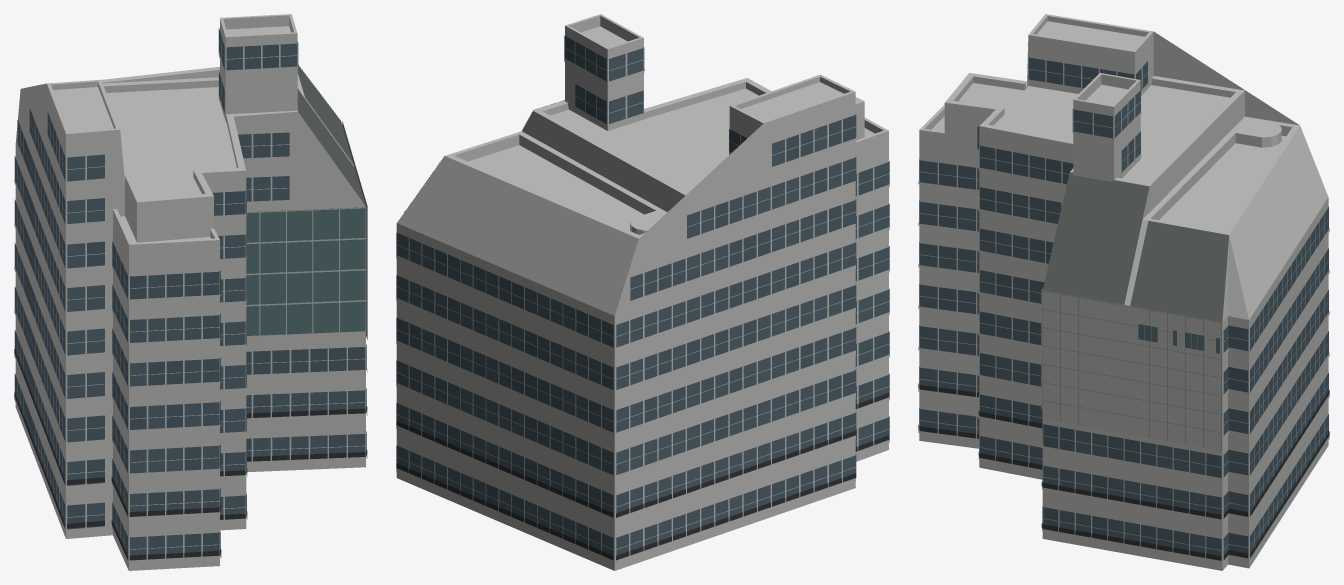
The model's file is takagi.glb.
The picture shows the model from 3 angles, left to right: view 1: azimuth 30°, elevation 25°; view 2: azimuth 150°, elevation 25°; view 3: azimuth 270°, elevation 25°; orthographic projection. The views are drawn at different scales.
Parts seen in each view (by area): view 1: takagi_wall, takagi_glass2, takagi_roof, takagi_glass0, takagi_glass1, takagi_fitted_glass, takagi_spandrel, takagi_frame, takagi_sign_housing, takagi_fitted_crown_rib, takagi_fitted_warm_panel; view 2: takagi_wall, takagi_roof, takagi_glass2, takagi_glass1, takagi_glass0, takagi_spandrel, takagi_frame, takagi_sign_housing; view 3: takagi_wall, takagi_roof, takagi_fitted_warm_panel, takagi_glass0, takagi_glass2, takagi_glass1, takagi_spandrel, takagi_fitted_crown_rib, takagi_frame, takagi_sign_housing, takagi_fitted_glass.
Boxes of the visible parts, x1,y1,x2,y2 form: takagi_wall: [15, 15, 366, 570]; takagi_glass2: [15, 28, 366, 560]; takagi_roof: [47, 14, 365, 244]; takagi_glass0: [15, 44, 366, 559]; takagi_glass1: [15, 45, 365, 559]; takagi_fitted_glass: [246, 207, 365, 335]; takagi_spandrel: [14, 51, 367, 564]; takagi_frame: [14, 28, 365, 559]; takagi_sign_housing: [14, 348, 367, 560]; takagi_fitted_crown_rib: [297, 64, 367, 339]; takagi_fitted_warm_panel: [246, 122, 367, 339]; takagi_wall: [396, 15, 888, 570]; takagi_roof: [397, 14, 888, 315]; takagi_glass2: [396, 41, 889, 560]; takagi_glass1: [396, 36, 889, 554]; takagi_glass0: [396, 90, 889, 555]; takagi_spandrel: [396, 58, 889, 563]; takagi_frame: [396, 36, 889, 561]; takagi_sign_housing: [396, 392, 889, 560]; takagi_wall: [919, 16, 1328, 570]; takagi_roof: [919, 14, 1328, 322]; takagi_fitted_warm_panel: [1041, 289, 1221, 450]; takagi_glass0: [919, 60, 1328, 561]; takagi_glass2: [919, 57, 1328, 557]; takagi_glass1: [919, 61, 1328, 558]; takagi_spandrel: [918, 76, 1329, 564]; takagi_fitted_crown_rib: [1042, 172, 1228, 450]; takagi_frame: [918, 58, 1329, 561]; takagi_sign_housing: [918, 383, 1329, 560]; takagi_fitted_glass: [1041, 289, 1219, 408].
Size of the model in its own units: 40.14 by 45.11 by 40.55.
